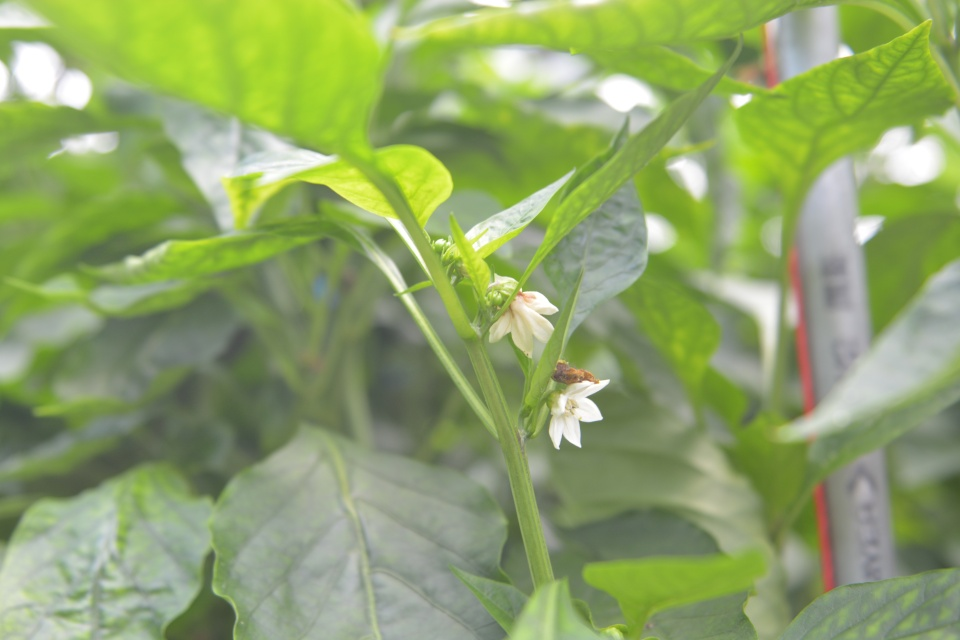flower: (485, 286, 560, 361), (546, 372, 613, 450)
